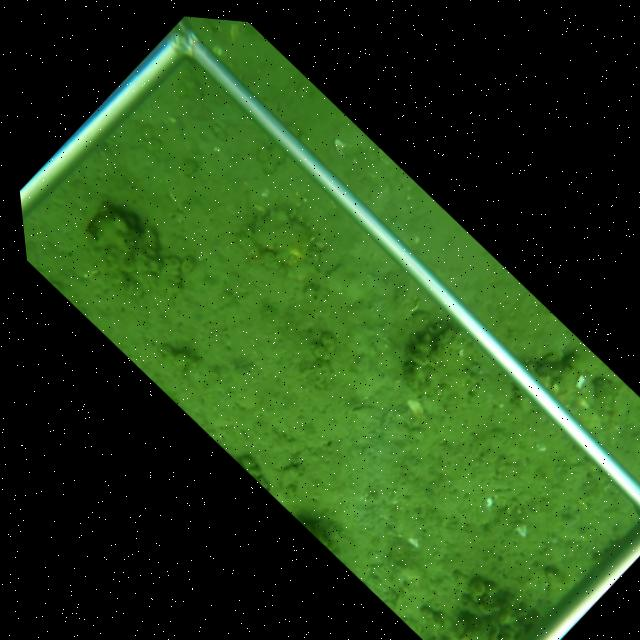Oyster-Indeterminate: (408, 321, 469, 395), (246, 202, 318, 263)
